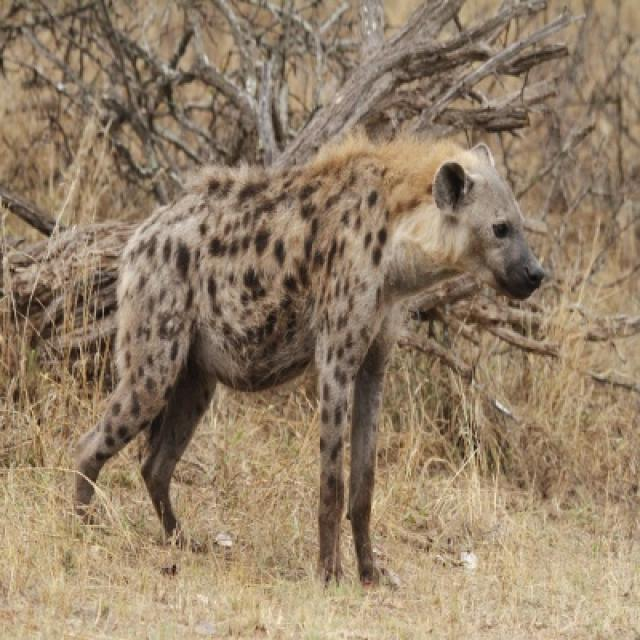hyena: (70, 141, 547, 592)
